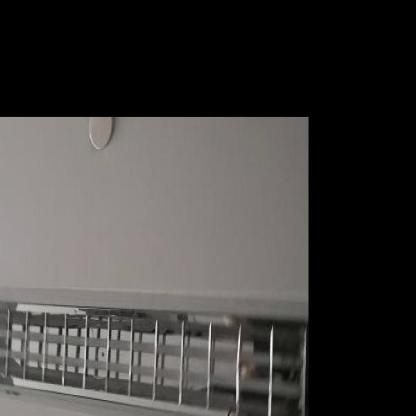light_off: (0, 254, 309, 414)
